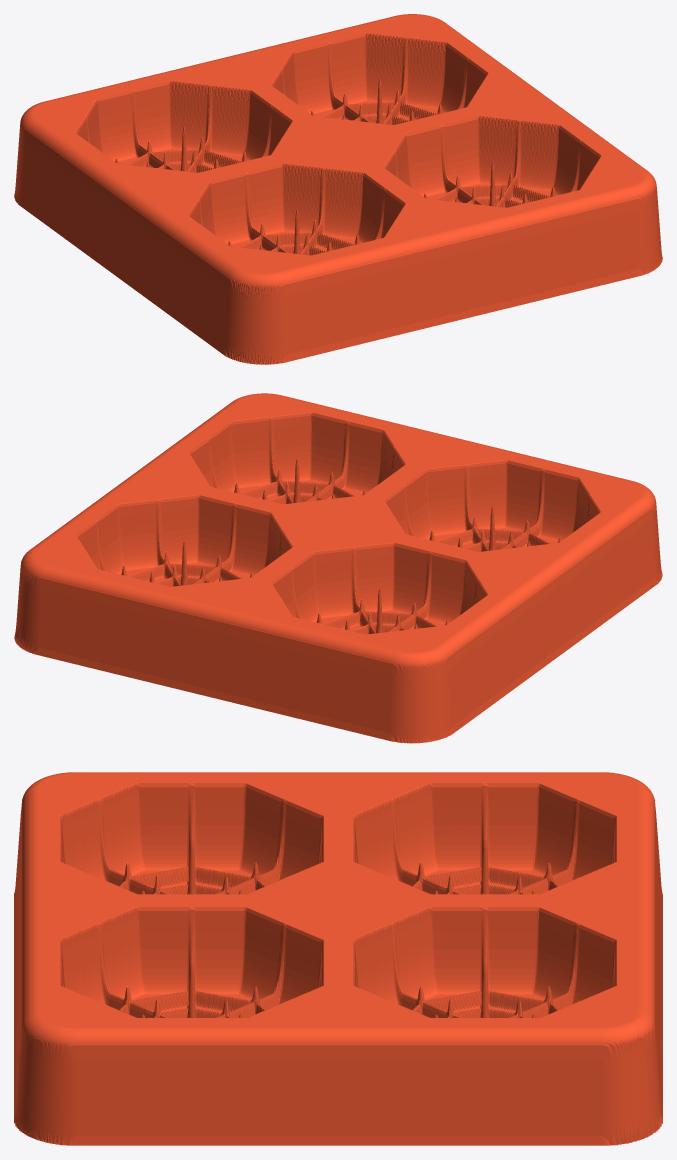
Rendered from mold.glb.
3 renders of one model, top to bottom at view 1: azimuth 30°, elevation 25°; view 2: azimuth 150°, elevation 25°; view 3: azimuth 270°, elevation 25°, orthographic. The views are drawn at different scales.
Parts seen in each view (by area): view 1: geometry_0; view 2: geometry_0; view 3: geometry_0.
Part boxes in pixels (x1=…): geometry_0: x1=14, y1=14, x2=662, y2=364; geometry_0: x1=14, y1=393, x2=662, y2=743; geometry_0: x1=14, y1=772, x2=662, y2=1145.
Size of the model in its own units: 0.0952 by 0.0175 by 0.0952.
